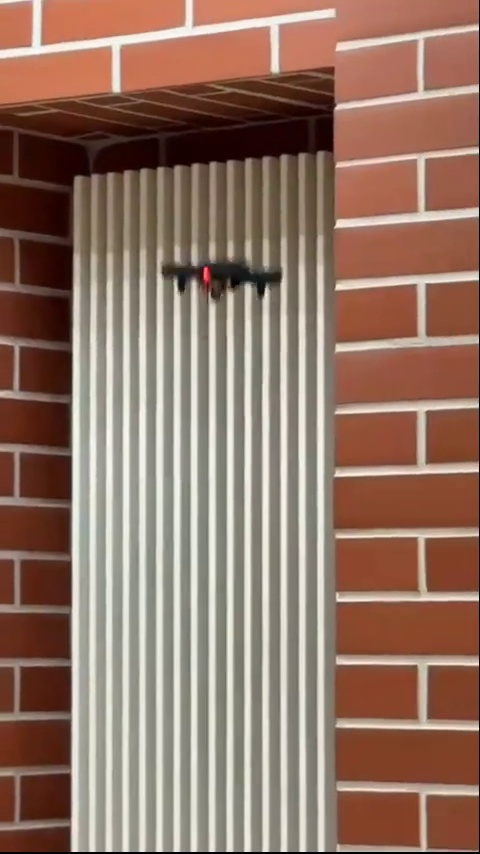drone: (163, 254, 278, 301)
